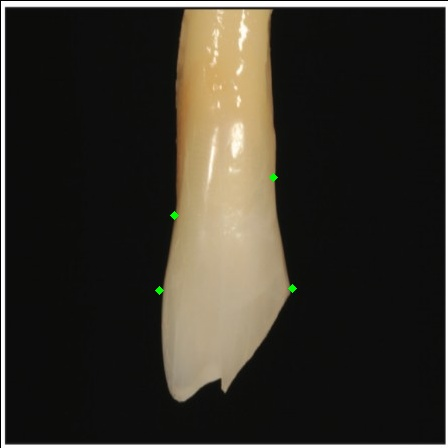coin_1: (273, 177, 293, 197)
coin_2: (292, 288, 312, 308)
coin_3: (174, 215, 194, 235)
coin_4: (159, 290, 179, 310)
